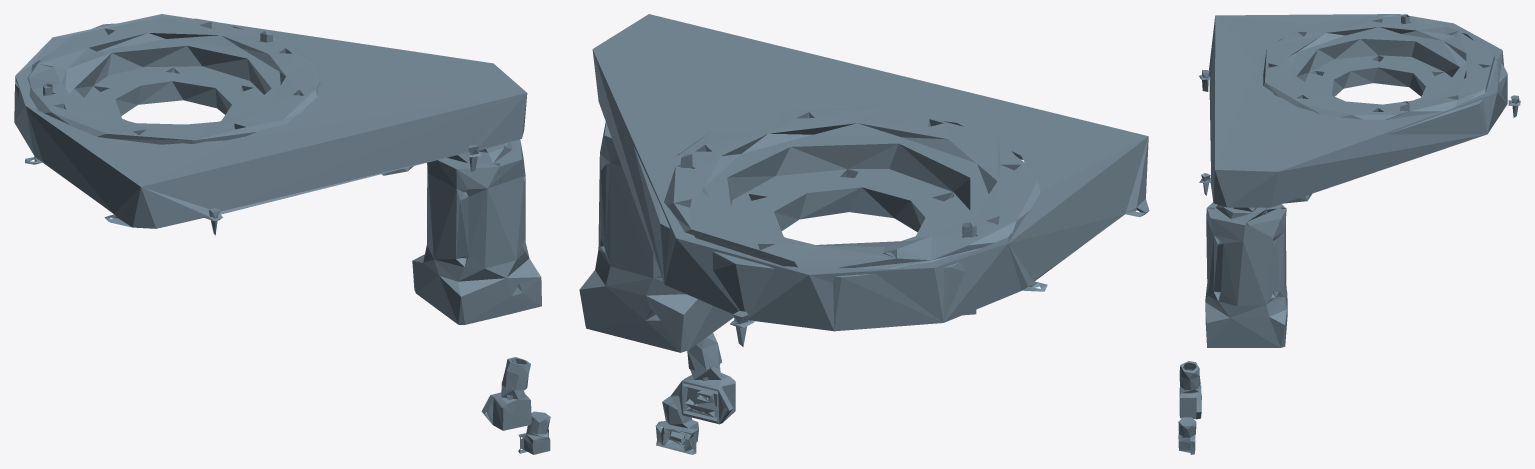
The model's file is susp_FL.dae.
The picture shows the model from 3 angles, left to right: view 1: azimuth 30°, elevation 25°; view 2: azimuth 150°, elevation 25°; view 3: azimuth 270°, elevation 25°; orthographic projection. The views are drawn at different scales.
Visible parts, largest first — view 1: node; view 2: node; view 3: node.
Boxes of the visible parts, x1,y1,x2,y2 form: node: [14, 14, 550, 454]; node: [579, 14, 1149, 454]; node: [1178, 14, 1520, 454].
Size of the model in its own units: 0.2896 by 0.2509 by 0.2356.
